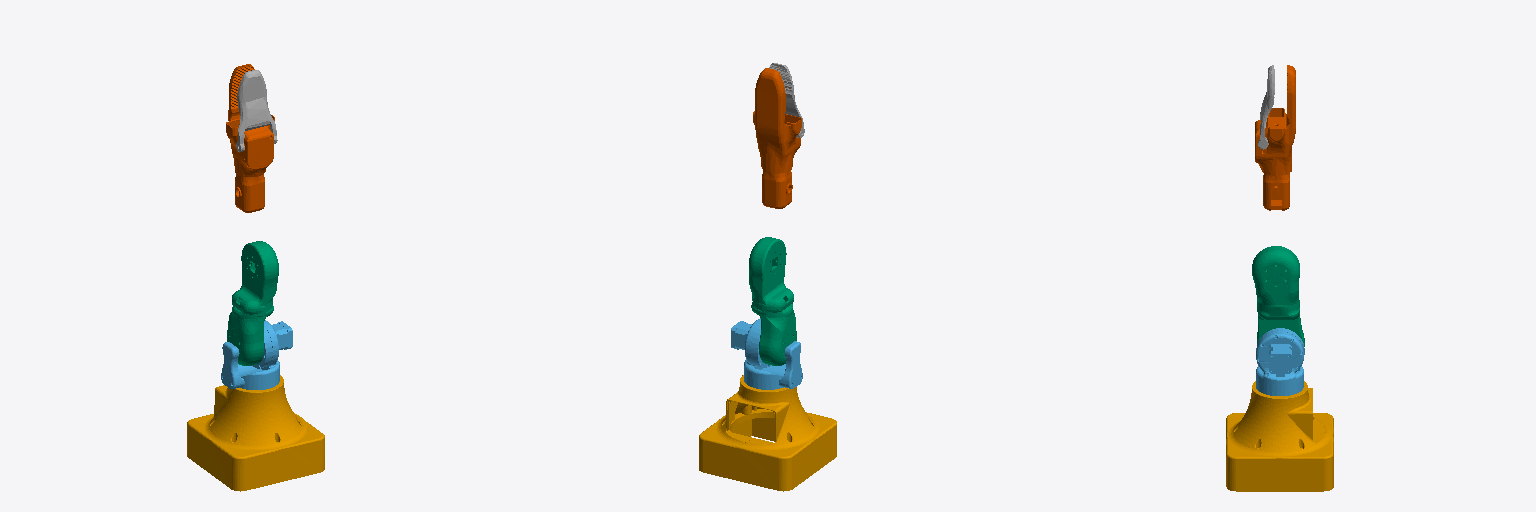
robot.urdf — robot_arm:
<?xml version="1.0" ?>
<robot name="robot_arm">

  <!-- База -->
  <link name="base_link">
    <visual>
      <origin xyz="0 0 0"/>
      <geometry>
        <mesh filename="BASA.stl"/>
      </geometry>
    </visual>
    <collision>
      <origin xyz="0 0 0"/>
      <geometry>
        <mesh filename="BASA.stl"/>
      </geometry>
    </collision>
  </link>

  <!-- Shoulder -->
  <joint name="joint_0" type="revolute">
    <parent link="base_link"/>
    <child link="shoulder_link"/>
    <origin xyz="0 0 0.18"/>
    <axis xyz="0 0 1"/>
    <limit lower="-2.7" upper="2.7" effort="10" velocity="1"/>
  </joint>

  <link name="shoulder_link">
    <visual>
      <origin xyz="0 0 -0.18"/>
      <geometry>
        <mesh filename="A.stl"/>
      </geometry>
    </visual>
    <collision>
      <origin xyz="0 0 -0.18"/>
      <geometry>
        <mesh filename="A.stl"/>
      </geometry>
    </collision>
  </link>

  <!-- Arm1 -->
  <joint name="joint_1" type="revolute">
    <parent link="shoulder_link"/>
    <child link="arm1_link"/>
    <origin xyz="0 0 0.06"/>
    <axis xyz="1 0 0"/>
    <limit lower="-1.57" upper="1.57" effort="10" velocity="1"/>
  </joint>

  <link name="arm1_link">
    <visual>
      <origin xyz="0 0 -0.23"/>
      <geometry>
        <mesh filename="A2.stl"/>
      </geometry>
    </visual>
    <collision>
      <origin xyz="0 0 -0.23"/>
      <geometry>
        <mesh filename="A2.stl"/>
      </geometry>
    </collision>
  </link>

  <!-- Arm2 -->
  <joint name="joint_2" type="revolute">
    <parent link="arm1_link"/>
    <child link="arm2_link"/>
    <origin xyz="0 0 0.17"/>
    <axis xyz="1 0 0"/>
    <limit lower="-1.57" upper="1.57" effort="10" velocity="1"/>
  </joint>

  <link name="arm2_link">
    <visual>
      <origin xyz="0 0 -0.39"/>
      <geometry>
        <mesh filename="A3.stl"/>
      </geometry>
    </visual>
    <collision>
      <origin xyz="0 0 -0.39"/>
      <geometry>
        <mesh filename="A3.stl"/>
      </geometry>
    </collision>
  </link>

  <!-- Elbow -->
  <joint name="joint_3" type="revolute">
    <parent link="arm2_link"/>
    <child link="elbow_link"/>
    <origin xyz="-0.015 0 0.86"/>
    <axis xyz="0 0 1"/>
    <limit lower="-1.57" upper="1.57" effort="10" velocity="1"/>
  </joint>

  <link name="elbow_link">
    <visual>
      <origin xyz="0.015 0 -1.25"/>
      <geometry>
        <mesh filename="A4.stl"/>
      </geometry>
    </visual>
    <collision>
      <origin xyz="0.015 0 -1.25"/>
      <geometry>
        <mesh filename="A4.stl"/>
      </geometry>
    </collision>
  </link>

  <!-- Arm3 -->
  <joint name="joint_4" type="revolute">
    <parent link="elbow_link"/>
    <child link="arm3_link"/>
    <origin xyz="0 0 -0.7"/>
    <axis xyz="1 0 0"/>
    <limit lower="-1.57" upper="1.57" effort="10" velocity="1"/>
  </joint>

  <link name="arm3_link">
    <visual>
      <origin xyz="0.015 0 -0.55"/>
      <geometry>
        <mesh filename="A5.stl"/>
      </geometry>
    </visual>
    <collision>
      <origin xyz="0.015 0 -0.55"/>
      <geometry>
        <mesh filename="A5.stl"/>
      </geometry>
    </collision>
  </link>

   <link name="gripper_inner_site">
    <visual>
      <origin xyz="0 0.0058 0.115"/>
      <geometry>
        <box size="0.0 0.0 0.0"/>
      </geometry>
      <material name="green">
        <color rgba="0 1 0 1"/>
      </material>
    </visual>
  </link>
  <joint name="gripper_inner_site" type="fixed">
    <parent link="arm3_link"/>
    <child link="gripper_inner_site"/>
    <origin xyz="0 0.0 0.23" rpy="0 0 0"/>
  </joint>

  <!-- Gripper -->
  <joint name="joint_5" type="revolute">
    <parent link="arm3_link"/>
    <child link="gripper_link"/>
    <origin xyz="0.015 -0.035 0.11"/>
    <axis xyz="1 0 0"/>
    <limit lower="-0.1" upper="1.57" effort="10" velocity="1"/>
  </joint>

  <link name="gripper_link">
    <visual>
      <origin xyz="0 0.035 -0.66"/>
      <geometry>
        <mesh filename="GRIPPER.stl"/>
      </geometry>
    </visual>
    <collision>
      <origin xyz="0 0.035 -0.66"/>
      <geometry>
        <mesh filename="GRIPPER.stl"/>
      </geometry>
    </collision>
  </link>

  <link name="gripper_upper_site">
    <visual>
      <origin xyz="-0.008 0.012 0.06"/>
      <geometry>
        <box size="0.0 0.0 0.0"/>
      </geometry>
      <material name="blue">
        <color rgba="0 0 1 1"/>
      </material>
    </visual>
  </link>
  <joint name="gripper_upper_site_joint" type="fixed">
    <parent link="gripper_link"/>
    <child link="gripper_upper_site"/>
    <origin xyz="-0.016 0.024 0.12" rpy="0 0 0"/>
  </joint>
</robot>

--- Render facts (derived) ---
The picture shows the robot from 3 angles, left to right: view 1: azimuth 30°, elevation 25°; view 2: azimuth 150°, elevation 25°; view 3: azimuth 270°, elevation 25°; orthographic projection.
Model robot_arm with 9 links and 8 joints (6 revolute, 2 fixed), rooted at base_link, posed every joint at zero.
Visible links, largest first — view 1: base_link, arm1_link, arm3_link, shoulder_link, gripper_link; view 2: base_link, arm3_link, arm1_link, shoulder_link, gripper_link; view 3: base_link, arm1_link, arm3_link, shoulder_link, gripper_link.
Boxes of the visible links, left/top/right/bottom form: base_link: left=187, top=375, right=324, bottom=491; arm1_link: left=227, top=241, right=278, bottom=365; arm3_link: left=226, top=64, right=274, bottom=212; shoulder_link: left=221, top=320, right=292, bottom=389; gripper_link: left=236, top=70, right=277, bottom=151; base_link: left=699, top=375, right=836, bottom=491; arm3_link: left=753, top=68, right=801, bottom=208; arm1_link: left=749, top=237, right=796, bottom=365; shoulder_link: left=731, top=318, right=802, bottom=389; gripper_link: left=769, top=63, right=804, bottom=137; base_link: left=1226, top=381, right=1333, bottom=491; arm1_link: left=1252, top=246, right=1304, bottom=346; arm3_link: left=1255, top=65, right=1295, bottom=210; shoulder_link: left=1256, top=328, right=1304, bottom=395; gripper_link: left=1258, top=65, right=1274, bottom=149.
Bounding box of the posed robot: 0.2 × 0.1999 × 0.916 m (x, y, z).
Meshes: 7 distinct files referenced, 5 mesh visuals loaded (5 binary STL); not drawn: 2 (reference not matched to a file when rendering).
